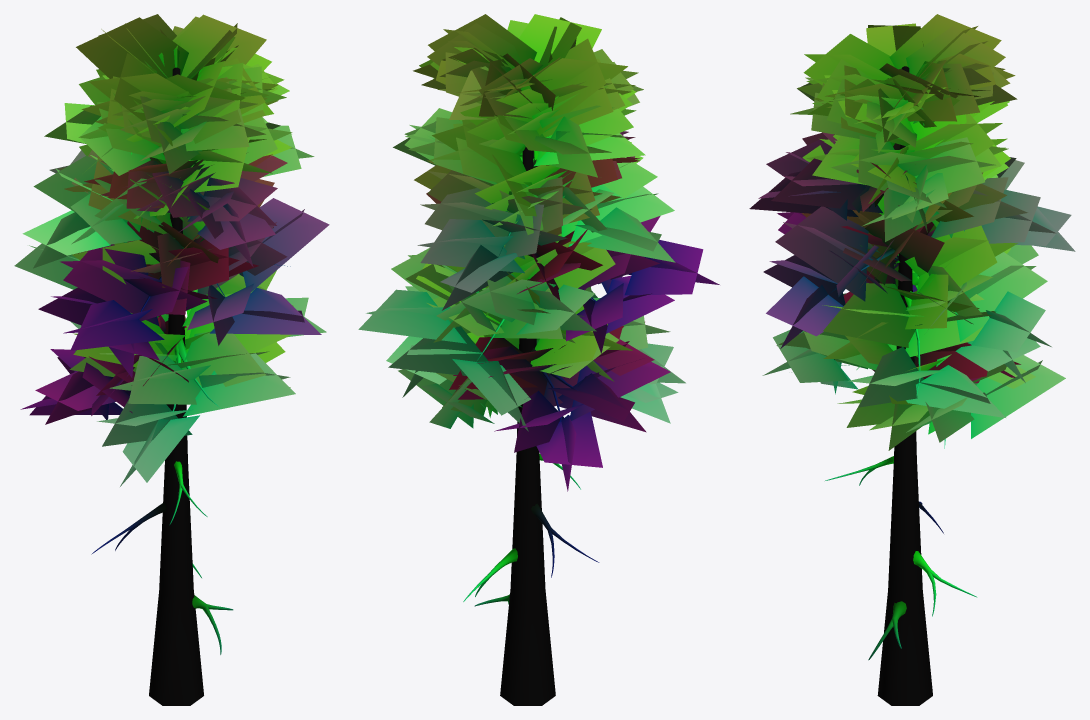
File: M_Pine_1_2.fbx
3 views of the same model, side by side, from view 1: azimuth 30°, elevation 25°; view 2: azimuth 150°, elevation 25°; view 3: azimuth 270°, elevation 25° (orthographic).
Parts seen in each view (by area): view 1: Tree_2; view 2: Tree_2; view 3: Tree_2.
Part boxes in pixels (x1,y1,x2,y2): Tree_2: [14, 14, 329, 705]; Tree_2: [358, 14, 719, 705]; Tree_2: [749, 14, 1075, 705].
Bounding box in the file's own units: 1156 × 2632 × 1179.
